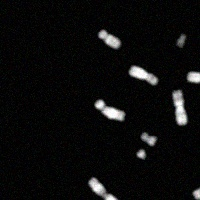chromosome: (89, 177, 123, 200), (95, 99, 125, 121), (129, 65, 158, 84), (173, 90, 187, 126), (99, 29, 120, 48), (141, 131, 157, 146), (193, 174, 200, 199), (188, 73, 200, 87), (176, 34, 186, 47), (136, 150, 146, 160)
